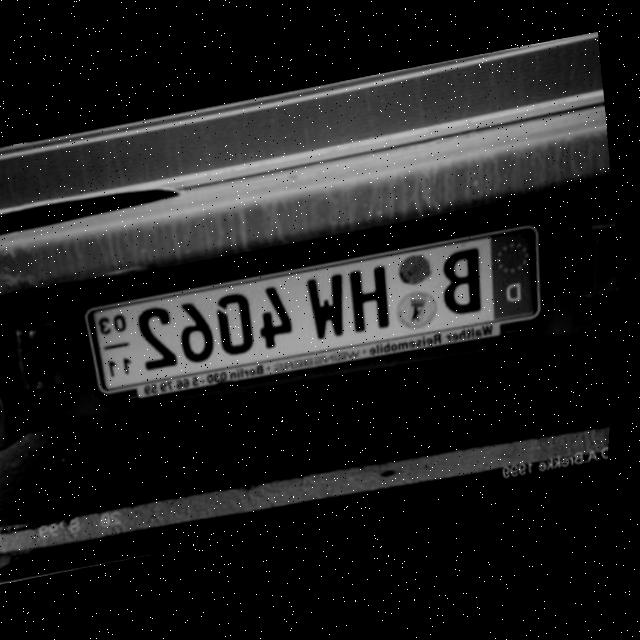license-plates: (87, 228, 540, 391)
